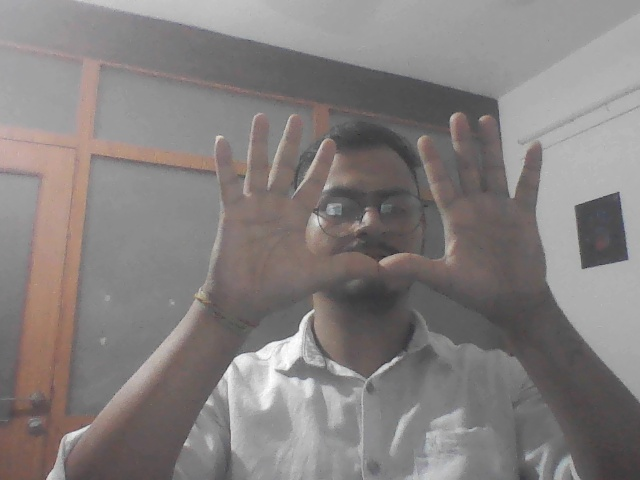Cheers: (186, 104, 575, 332)
